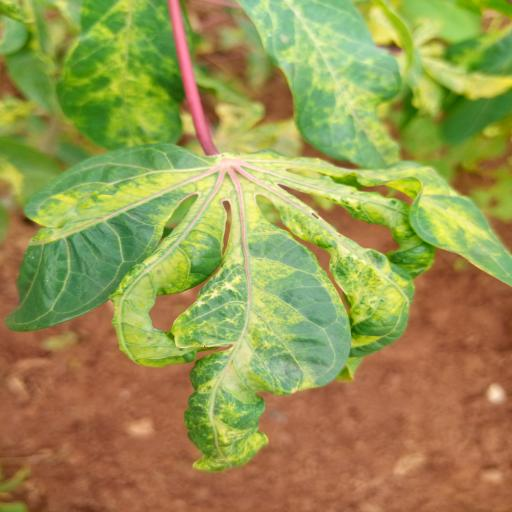Cassava_Mosaic: (9, 146, 512, 474)
